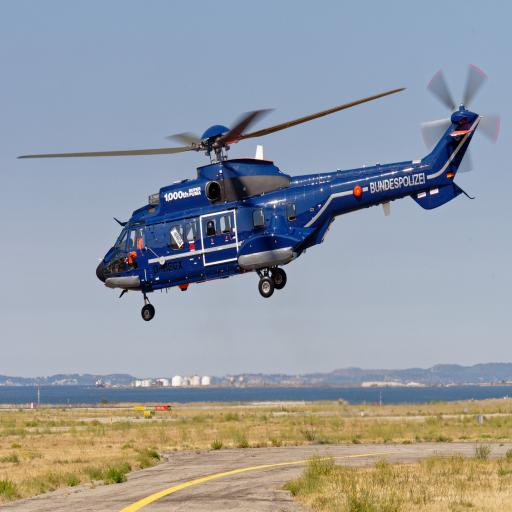helicopter: (17, 58, 506, 327)
